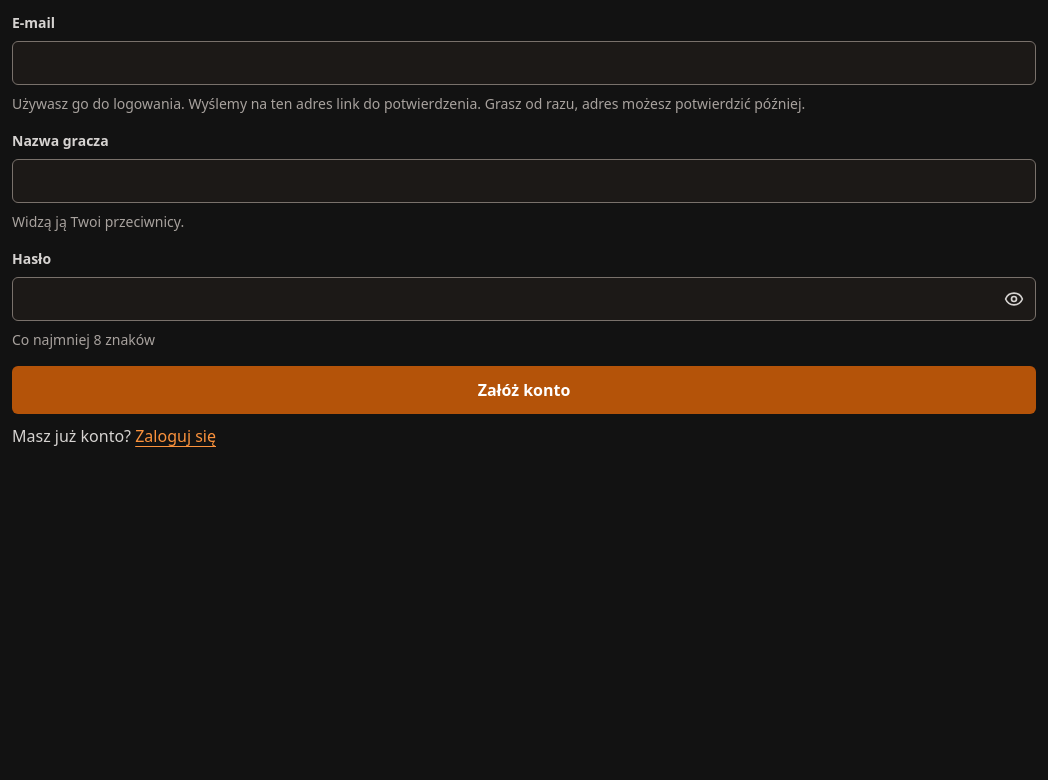
it: RegisterForm › explains an already signed-in session
This screenshot has width=1048, height=780.
Type "ala@example.com" into the field labelled "E-mail". click: {"x": 524, "y": 63}
box: x1=12 y1=41 x2=1036 y2=85
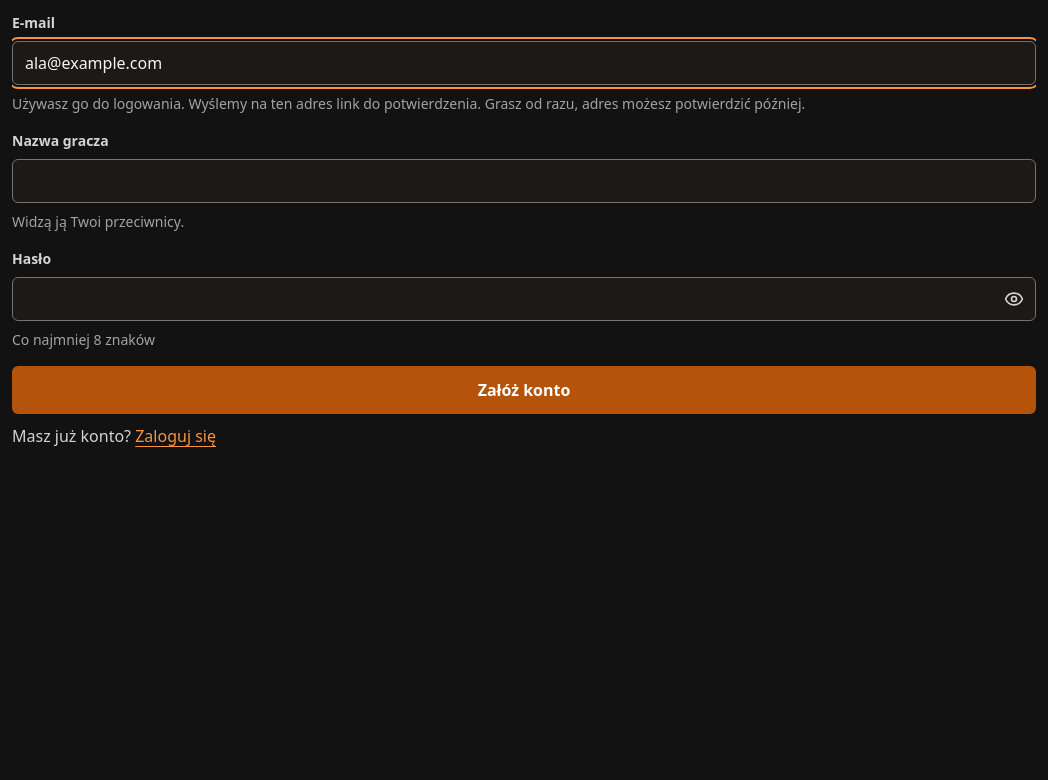
Type "Ala_7" into the field labelled "Nazwa gracza". click: {"x": 524, "y": 181}
box: x1=12 y1=159 x2=1036 y2=203
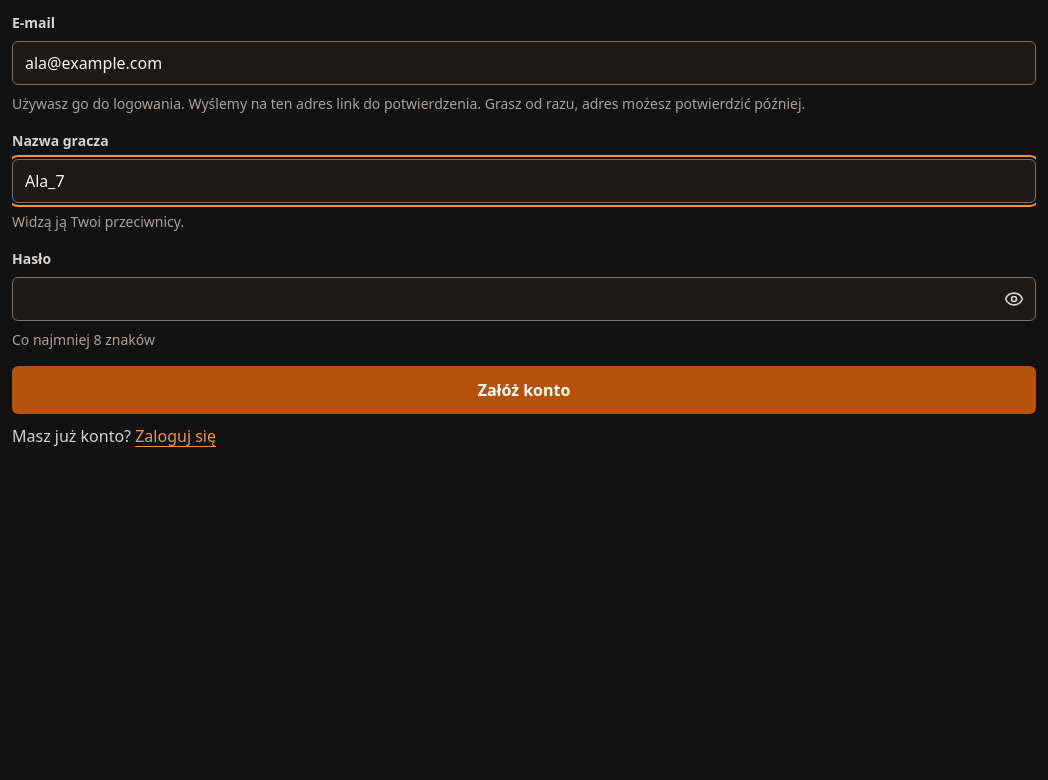
Type "secret123" into the password field labelled "Hasło". click: {"x": 524, "y": 299}
box: x1=12 y1=277 x2=1036 y2=321
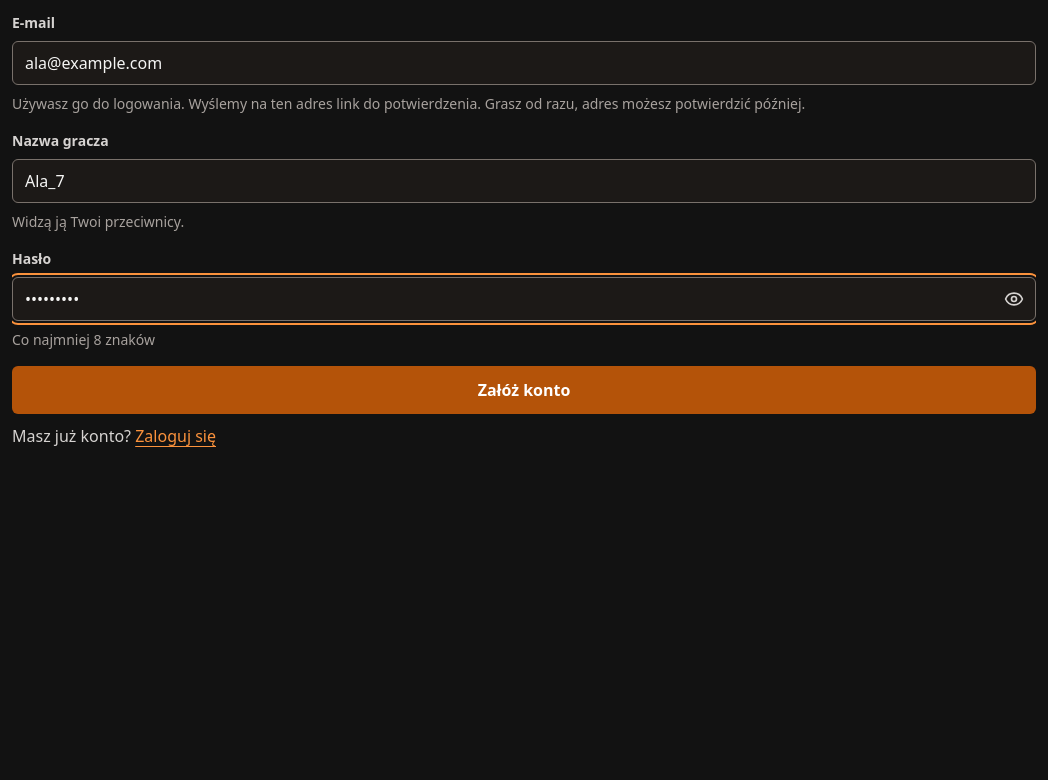
Click the button "Załóż konto". click: {"x": 524, "y": 390}
box: x1=12 y1=366 x2=1036 y2=414
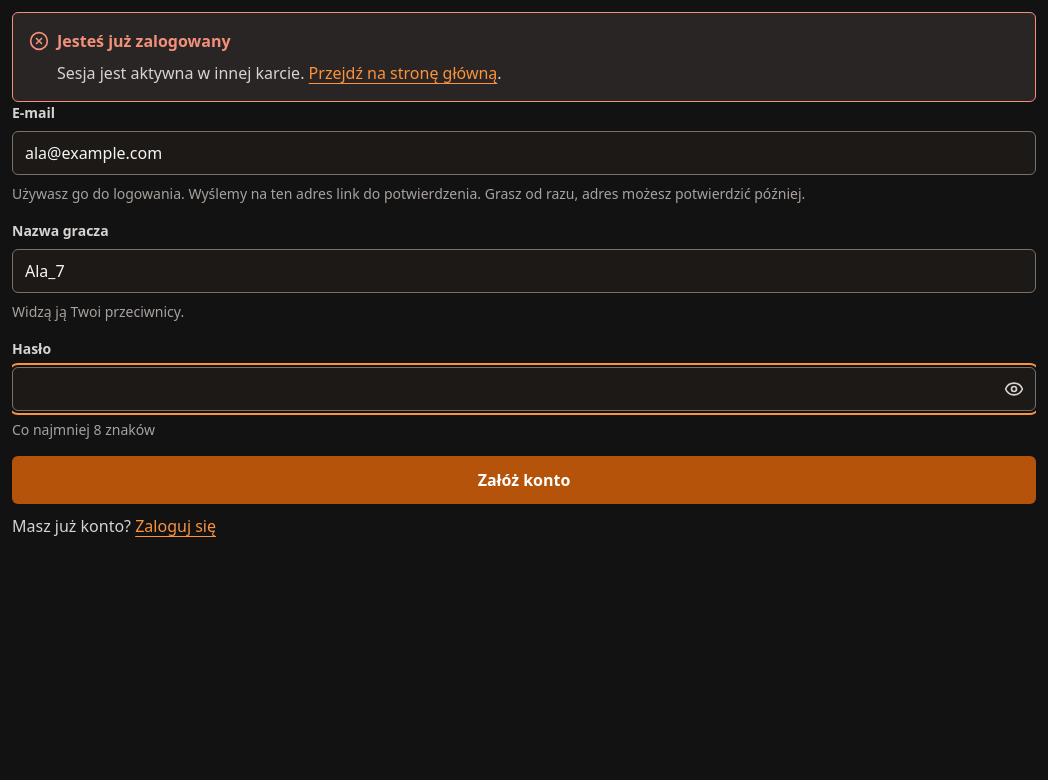
Check: the element with test id "register-error" shows "Jesteś już zalogowany", box x1=57 y1=30 x2=230 y2=52
